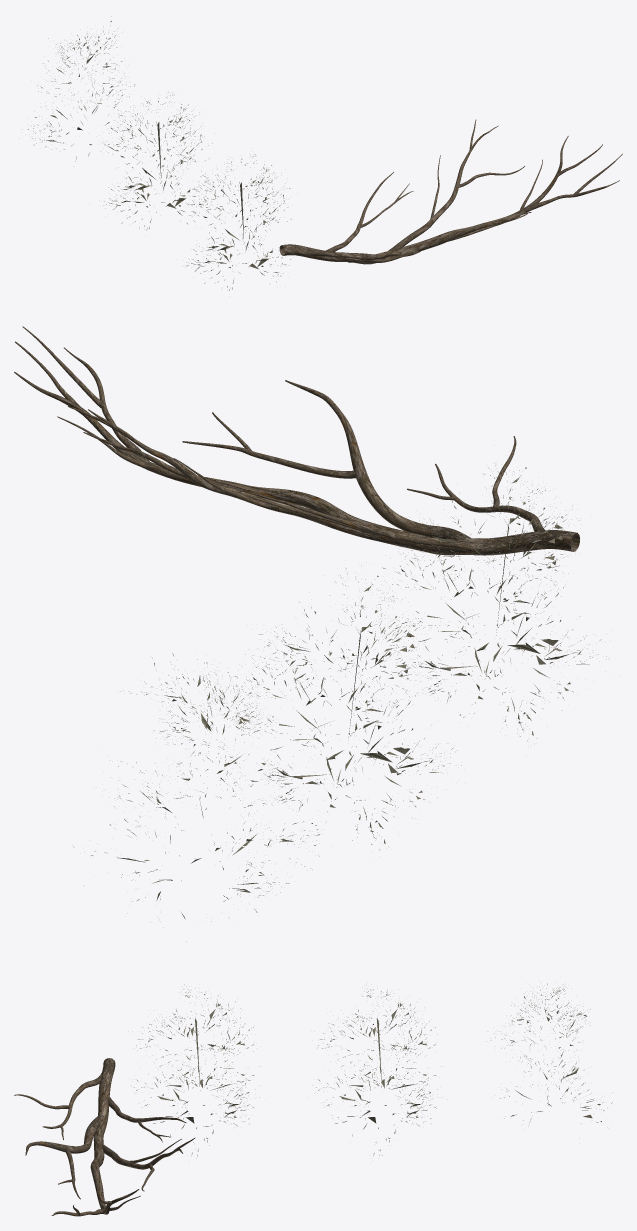
File: oak_tree_user_3.glb
3 renders of one model, top to bottom at view 1: azimuth 30°, elevation 25°; view 2: azimuth 150°, elevation 25°; view 3: azimuth 270°, elevation 25°, orthographic. The views are drawn at different scales.
Parts seen in each view (by area): view 1: BezierCurve, treeGreenWinter_Oak_Bark_1_Mat_0; view 2: BezierCurve, treeGreenWinter_Oak_Bark_1_Mat_0; view 3: BezierCurve, treeGreenWinter_Oak_Bark_1_Mat_0.
Part boxes in pixels (x1,y1,x2,y2): BezierCurve: (279, 119, 622, 264); treeGreenWinter_Oak_Bark_1_Mat_0: (21, 16, 291, 290); BezierCurve: (14, 326, 579, 555); treeGreenWinter_Oak_Bark_1_Mat_0: (73, 465, 606, 941); BezierCurve: (14, 1058, 194, 1216); treeGreenWinter_Oak_Bark_1_Mat_0: (134, 983, 612, 1158).
Bounding box in the file's own units: 21.53 × 8.12 × 26.27.
4 materials, 4 textured.
